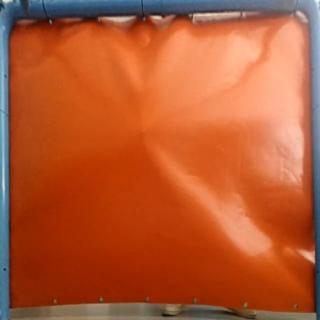Hit-hRxx: (137, 125, 153, 137)
